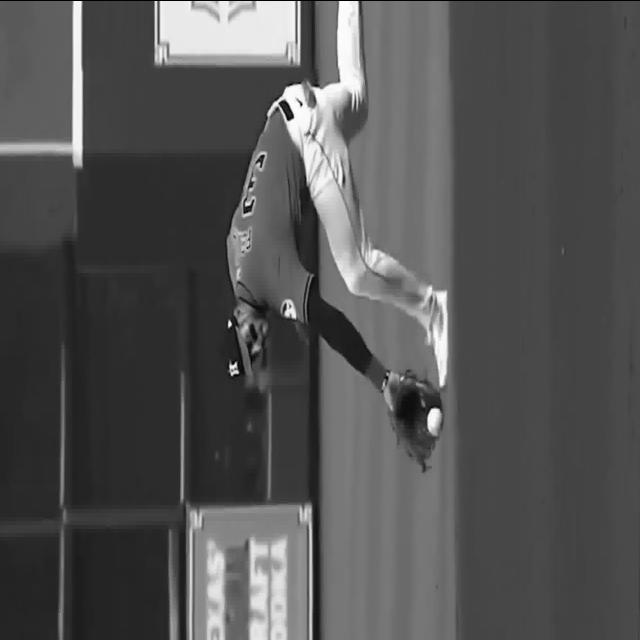baseball: (427, 406, 442, 437)
baseball_glove: (382, 369, 444, 473)
shoe: (426, 289, 448, 388)
